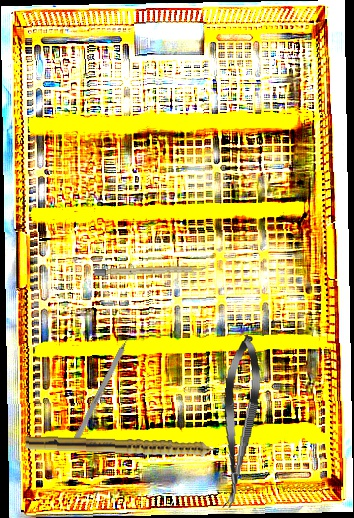Handpiece: (24, 435, 234, 461)
Hook Surgical: (70, 325, 137, 447)
Micro Scissor: (212, 333, 266, 511)
Scalpel Handle: (93, 265, 208, 276)
